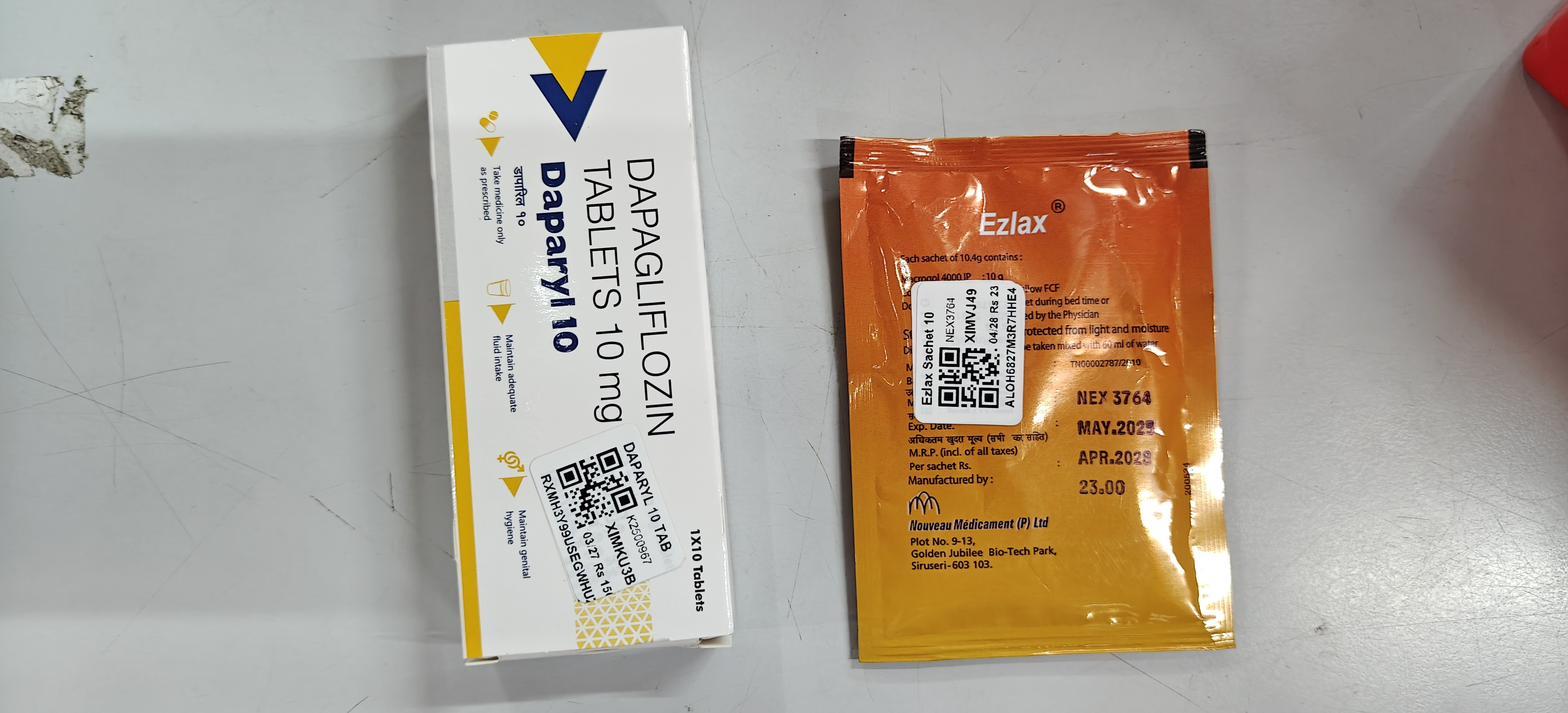qr_code: (555, 446, 638, 529), (938, 347, 1000, 408)
